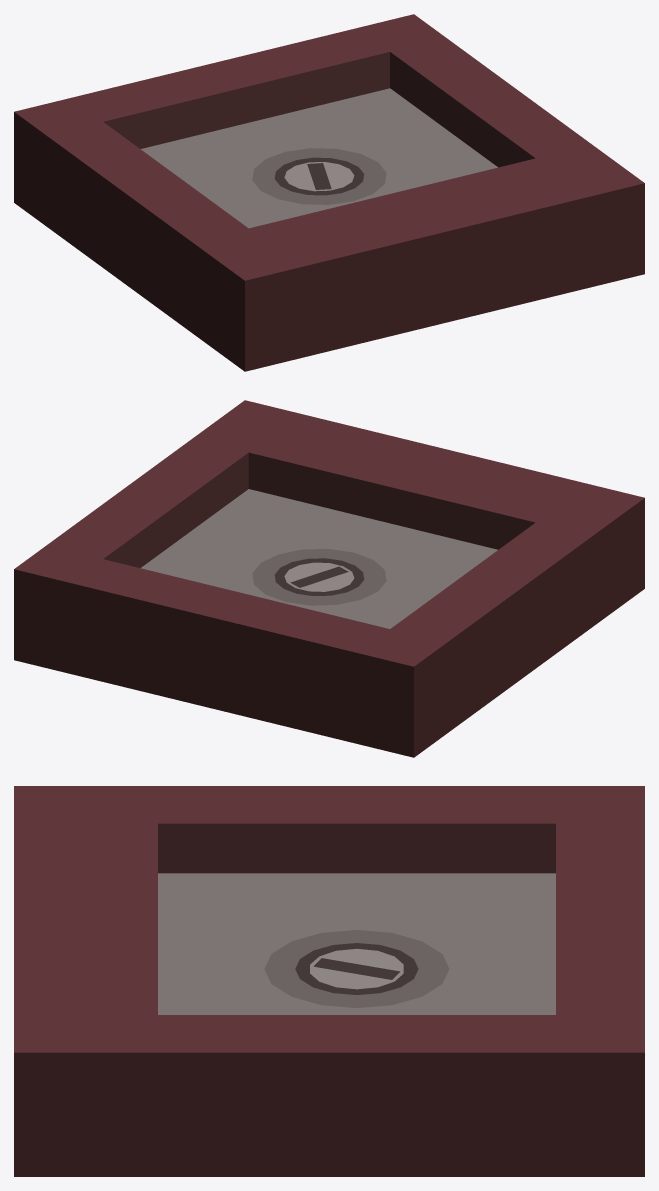
File: vce_tap_chem.obj
3 renders of one model, top to bottom at view 1: azimuth 30°, elevation 25°; view 2: azimuth 150°, elevation 25°; view 3: azimuth 270°, elevation 25°, orthographic. The views are drawn at different scales.
Size of the model in its own units: 0.92 by 0.2 by 0.92.
